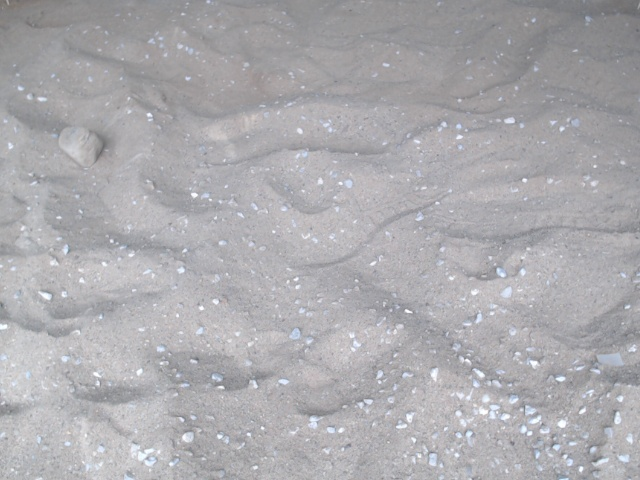rock: (52, 119, 109, 172)
